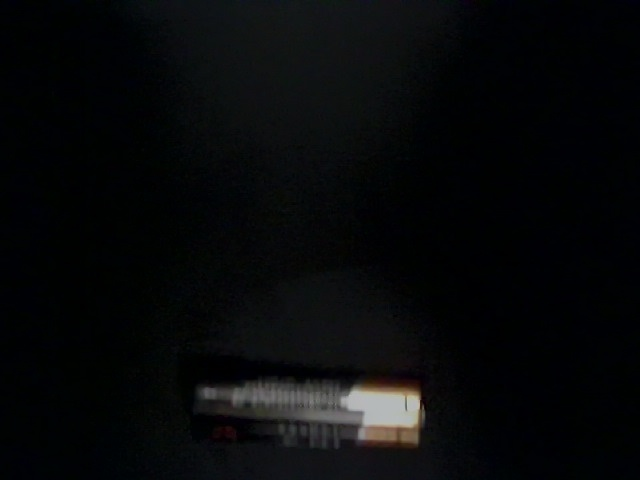QTLJ: (405, 407, 580, 480)
